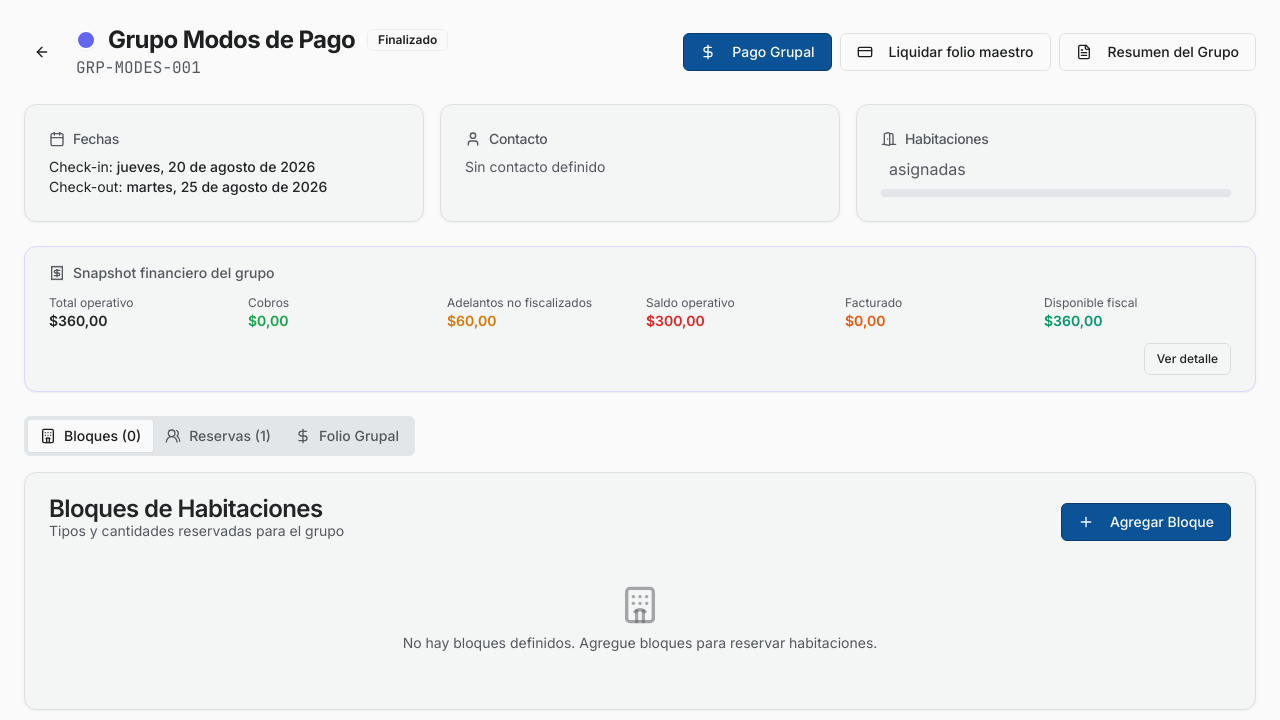
Test: Pago Grupal dialog entry-point modes › keeps a master-folio settlement entry point visible after all rooms checked out
Expected: the heading "Grupo Modos de Pago" is shown, [108,24,355,56]
Click the button with test id "button-settle-master-after-checkout" at (945, 52), box [840,33,1051,71]
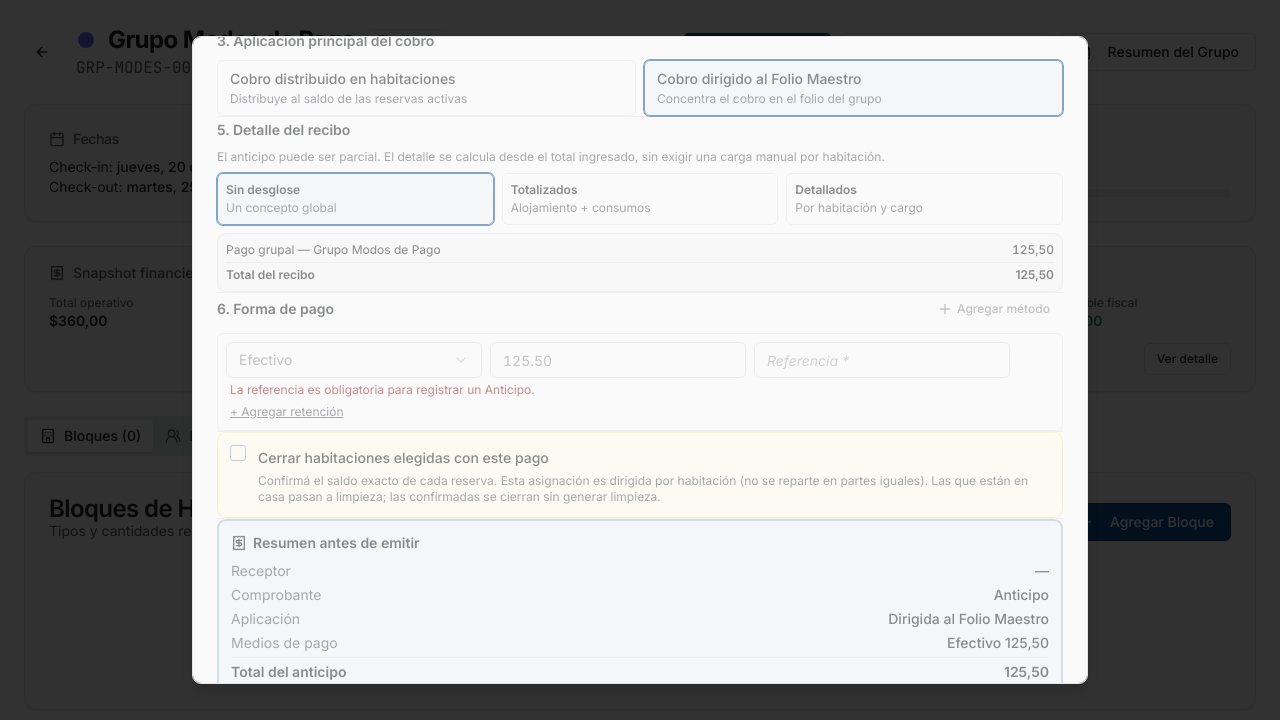
Expected: the number field with test id "input-group-payment-amount-0" holds "125.5", [490,342,746,378]
